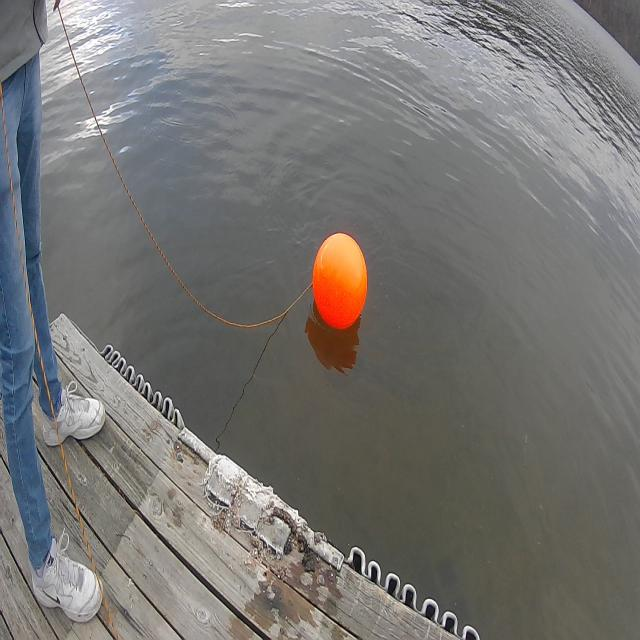Buoy: (307, 223, 372, 345)
